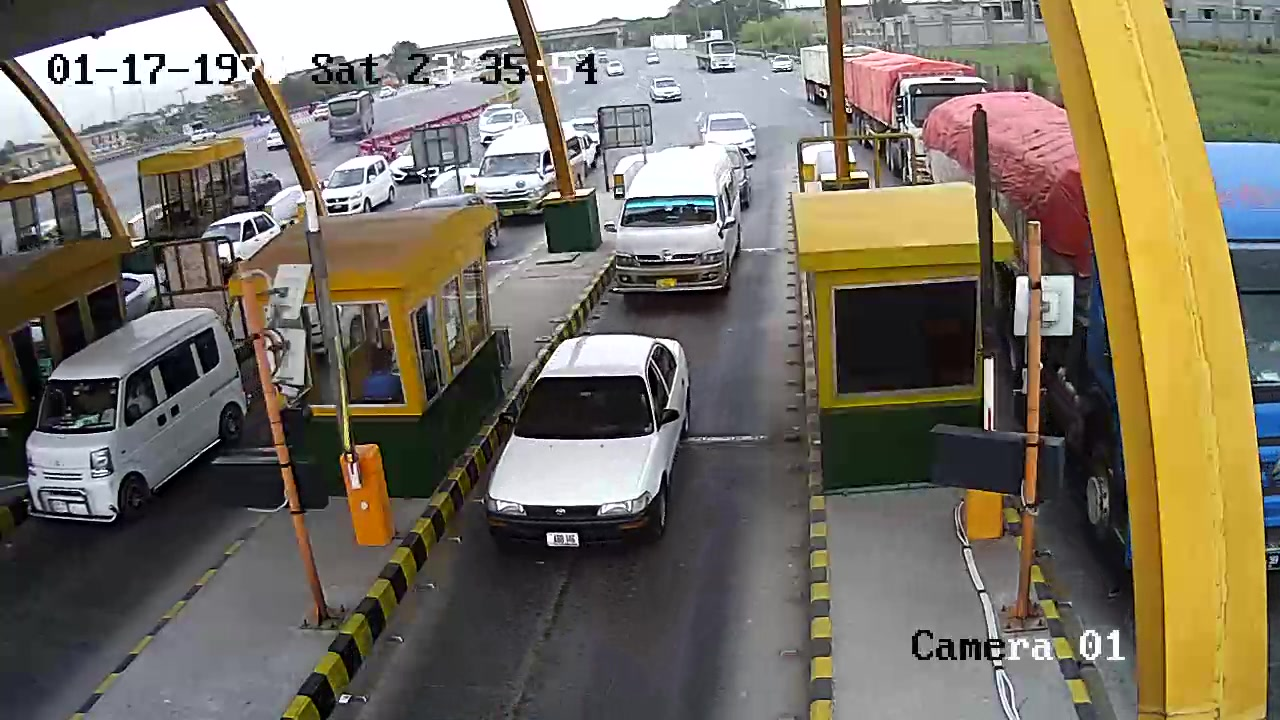F1: (480, 324, 711, 563)
F2: (615, 137, 743, 308)
